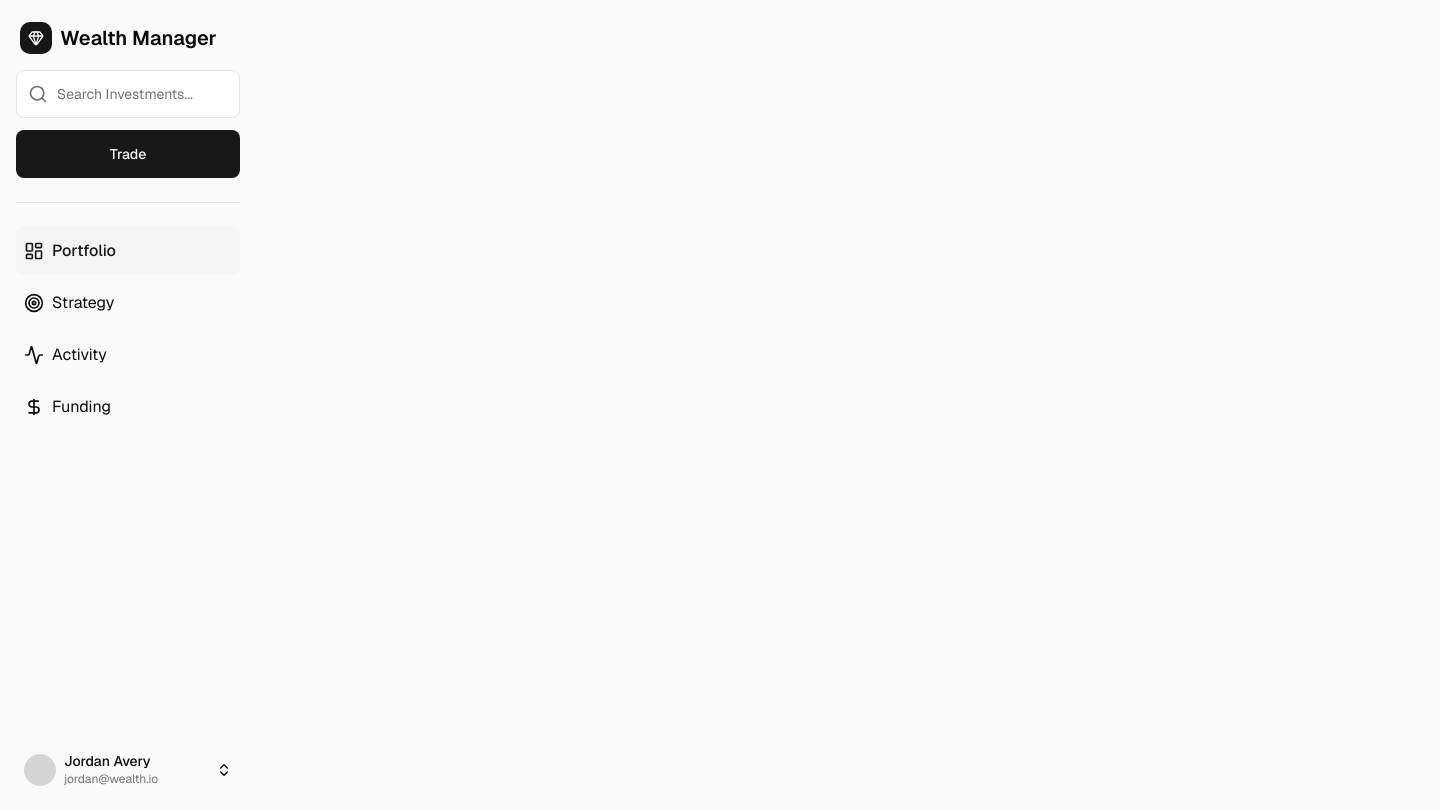
shows the pending unavailable state without an Order form
What coordinates should you click on to do the following:
click the button "Trade"
I would click on:
 (128, 154)
Its box is [16,130,240,178].
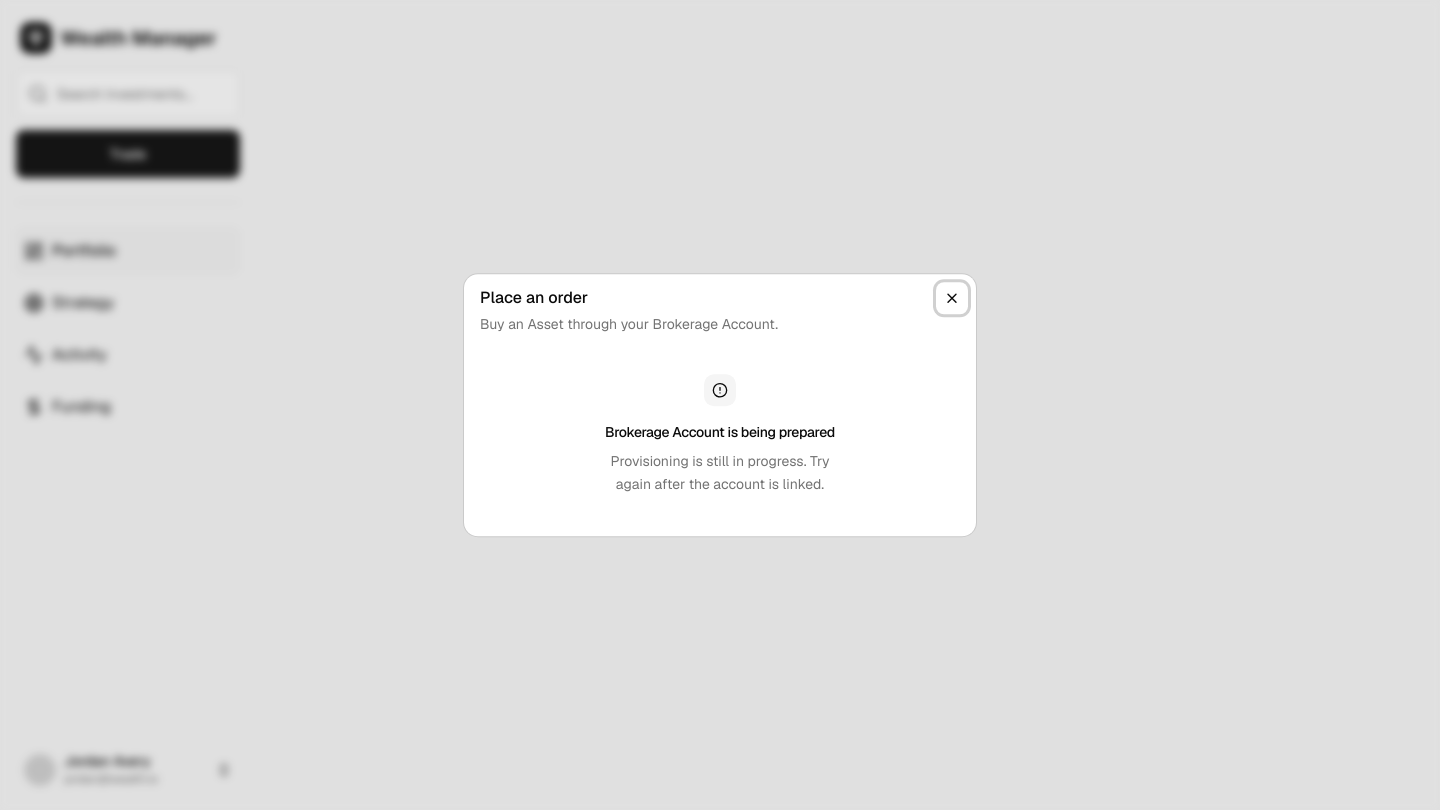
Check: the heading "Brokerage Account is being prepared" is shown, box [605,422,835,442]
